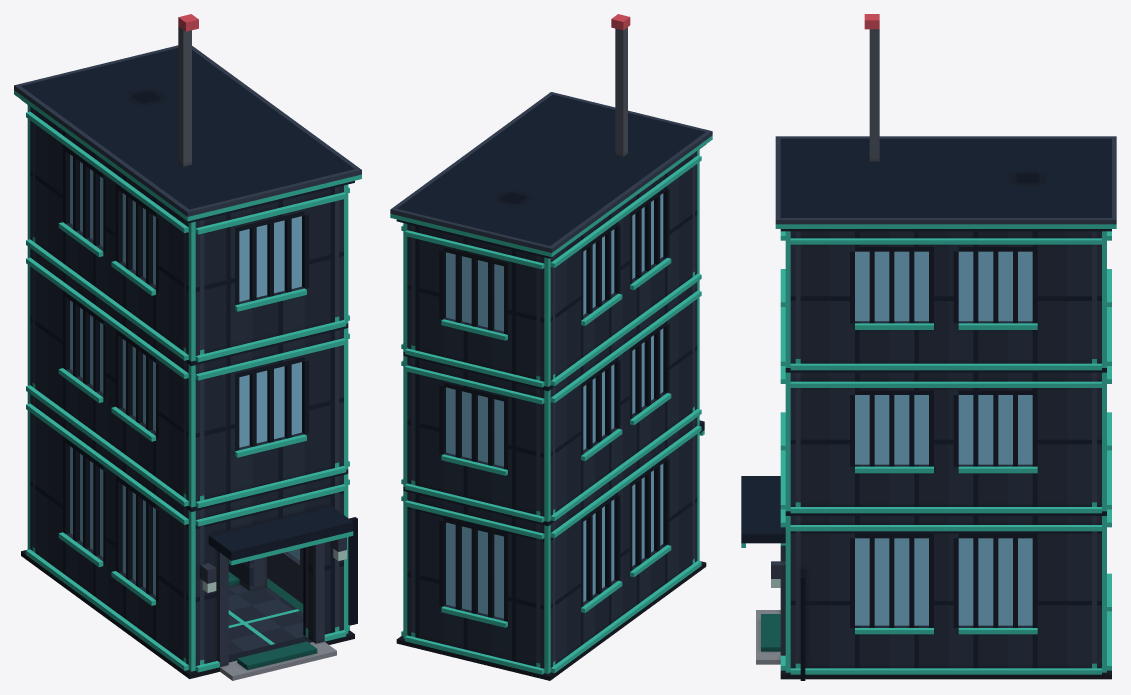
3 renders of one model, left to right at view 1: azimuth 30°, elevation 25°; view 2: azimuth 150°, elevation 25°; view 3: azimuth 270°, elevation 25°, orthographic. The views are drawn at different scales.
Parts seen in each view (by area): view 1: CutUpper, Base, CutNX, CutPZ, CutNZ; view 2: CutUpper, CutNZ, CutNX, Base, CutPZ; view 3: CutUpper, CutPX, Base, CutPZ, CutNZ.
Boxes of the visible parts, <box> form: CutUpper: <box>14,14,361,511</box>; Base: <box>21,511,357,680</box>; CutNX: <box>26,398,188,624</box>; CutPZ: <box>183,474,357,630</box>; CutNZ: <box>27,392,35,515</box>; CutUpper: <box>390,14,712,526</box>; CutNZ: <box>403,491,555,635</box>; CutNX: <box>550,421,701,630</box>; Base: <box>396,525,706,680</box>; CutPZ: <box>692,416,704,529</box>; CutUpper: <box>775,14,1116,515</box>; CutPX: <box>790,516,1101,634</box>; Base: <box>756,610,1111,680</box>; CutPZ: <box>741,476,805,640</box>; CutNZ: <box>1092,509,1111,632</box>.
Size of the model in its own units: 4.2 by 13.5 by 7.6.
